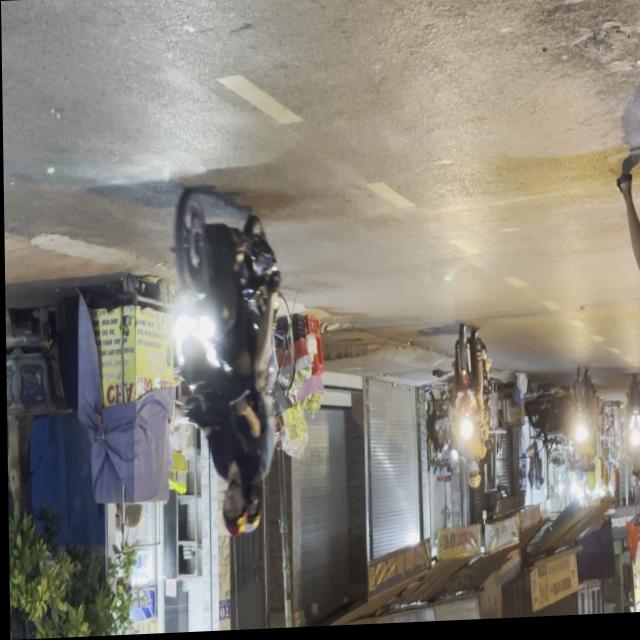helmet: (217, 481, 243, 539), (238, 487, 259, 537), (463, 466, 477, 495)
licenseplate: (161, 180, 288, 546), (617, 159, 640, 550), (445, 328, 490, 496)
